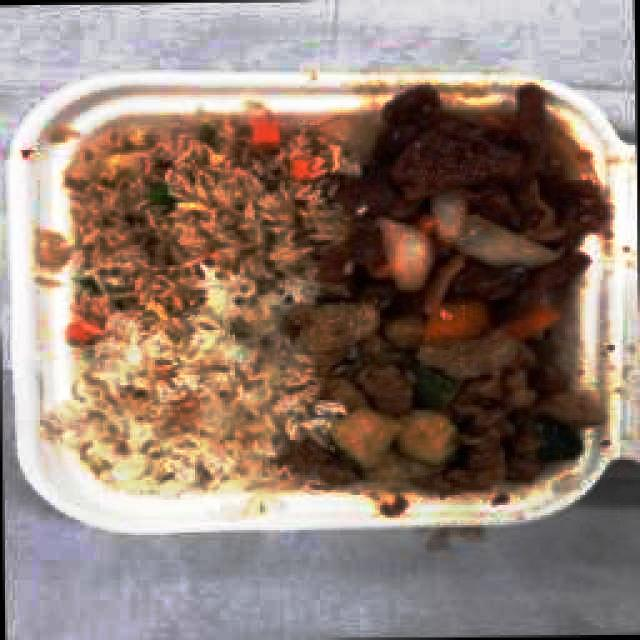Beijing Beef: (350, 86, 569, 299)
Fried Rice: (86, 123, 327, 262)
Kung Pao Chicken: (330, 277, 589, 483)
rice: (86, 282, 290, 485)
